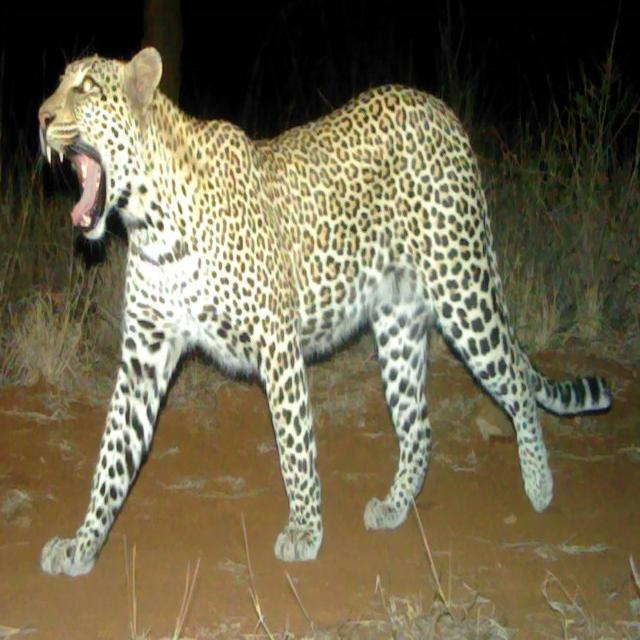Leopard: (36, 43, 618, 584)
